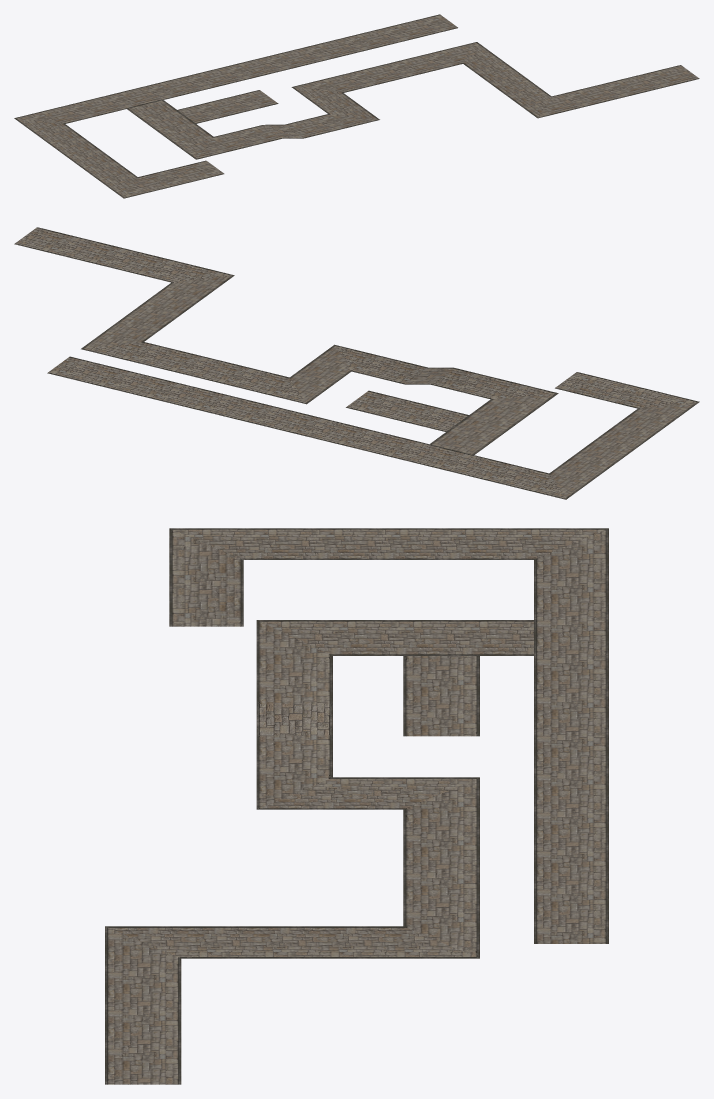
The model's file is Old_PhoenixCastle_Hallway_wall02.FBX.
3 renders of one model, top to bottom at view 1: azimuth 30°, elevation 25°; view 2: azimuth 150°, elevation 25°; view 3: azimuth 270°, elevation 25°, orthographic. The views are drawn at different scales.
Parts seen in each view (by area): view 1: Object012; view 2: Object012; view 3: Object012.
Boxes of the visible parts, x1,y1,x2,y2 form: Object012: (14,14,699,198); Object012: (14,227,699,499); Object012: (105,528,608,1084).
Bounding box in the file's own units: 11863 × 102 × 4622.
Materials: 1 (1 with a texture image).
